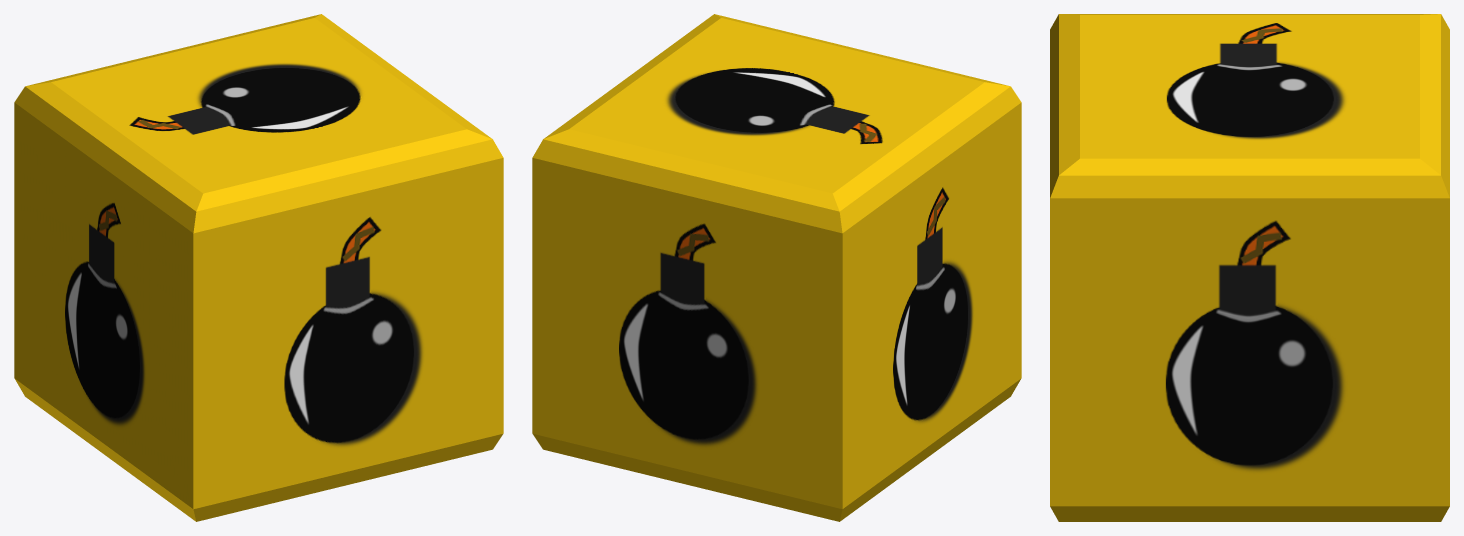
The model's file is bombpowerup.fbx.
The picture shows the model from 3 angles, left to right: view 1: azimuth 30°, elevation 25°; view 2: azimuth 150°, elevation 25°; view 3: azimuth 270°, elevation 25°; orthographic projection. The views are drawn at different scales.
Visible parts, largest first — view 1: Layer_1; view 2: Layer_1; view 3: Layer_1.
Boxes of the visible parts, <box> form: Layer_1: <box>14,14,503,521</box>; Layer_1: <box>532,14,1021,521</box>; Layer_1: <box>1050,14,1449,521</box>.
Bounding box in the file's own units: 100 × 100 × 100.
1 material, 1 textured.
